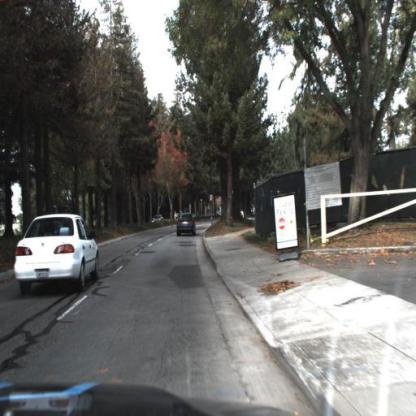car: (17, 211, 100, 292), (178, 212, 196, 237), (153, 216, 165, 224)
